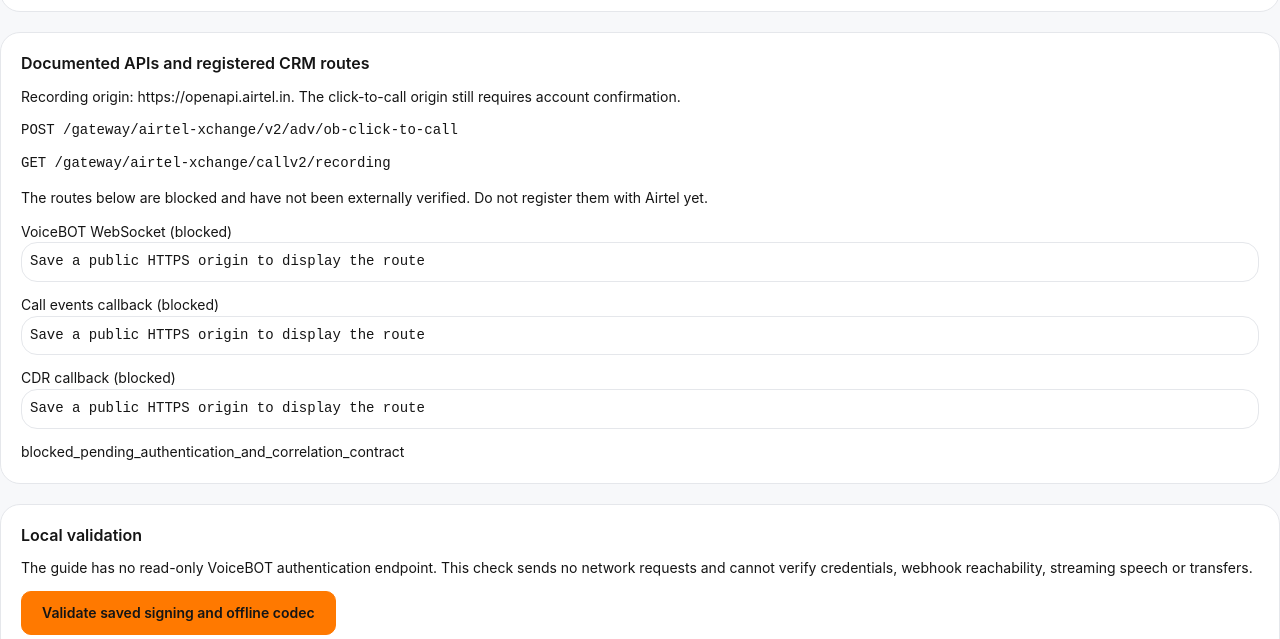
Scenario: Airtel VoiceBOT settings › prevents validation of dirty credentials and labels offline validation honestly
(page scrolled)
Click the button "Validate saved signing and offline codec".
click(178, 613)  # box [21,591,336,635]
(page scrolled)
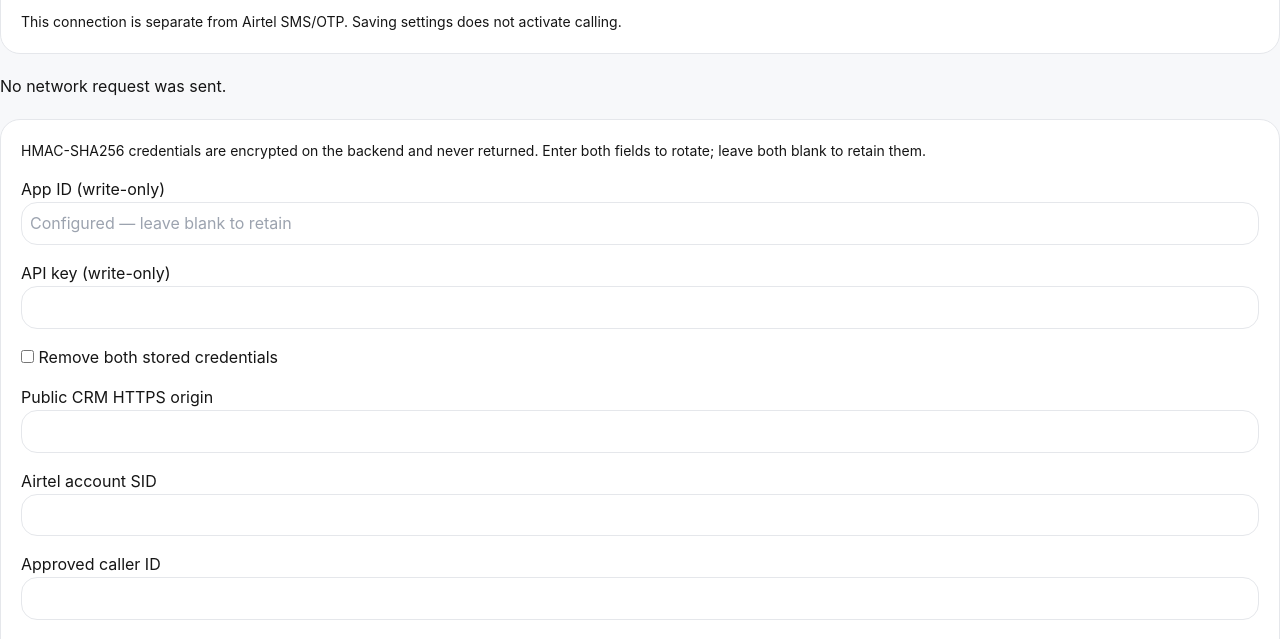
Now the text "No network request was sent." is shown, box [0,76,226,96]
Type "replacement" into the password field labelled "App ID (write-only)".
click(640, 224); type("replacement")  # box [21,202,1259,245]
(page scrolled)
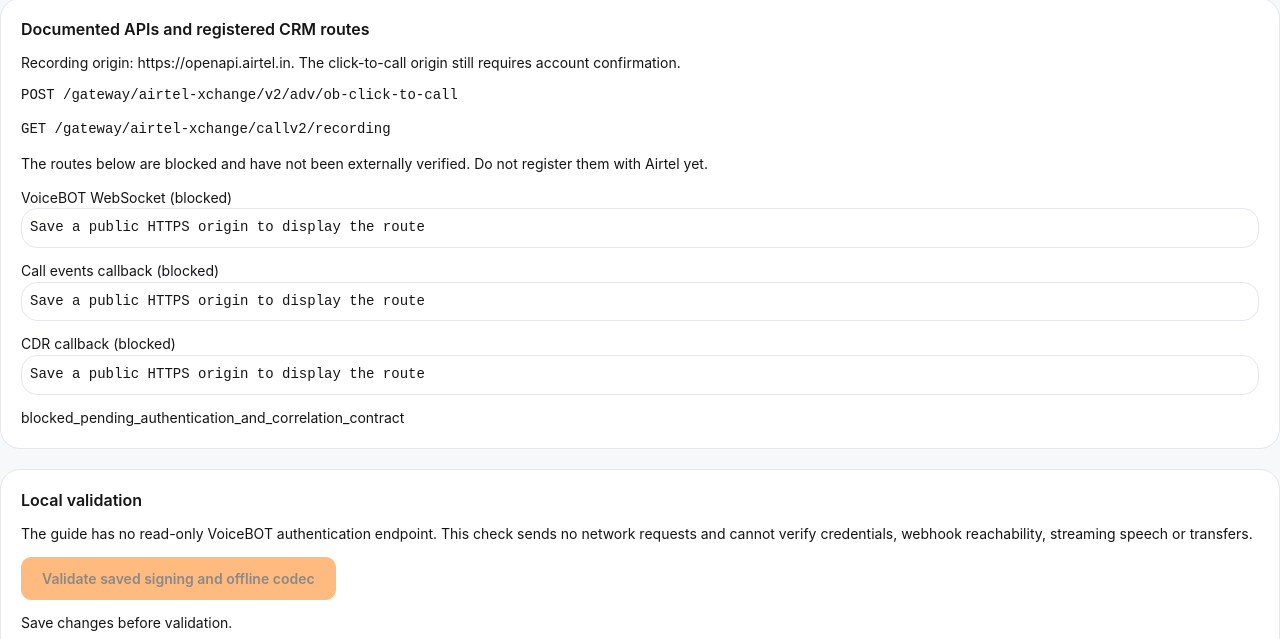
Now the button "Validate saved signing and offline codec" is disabled, box [21,557,336,600]
